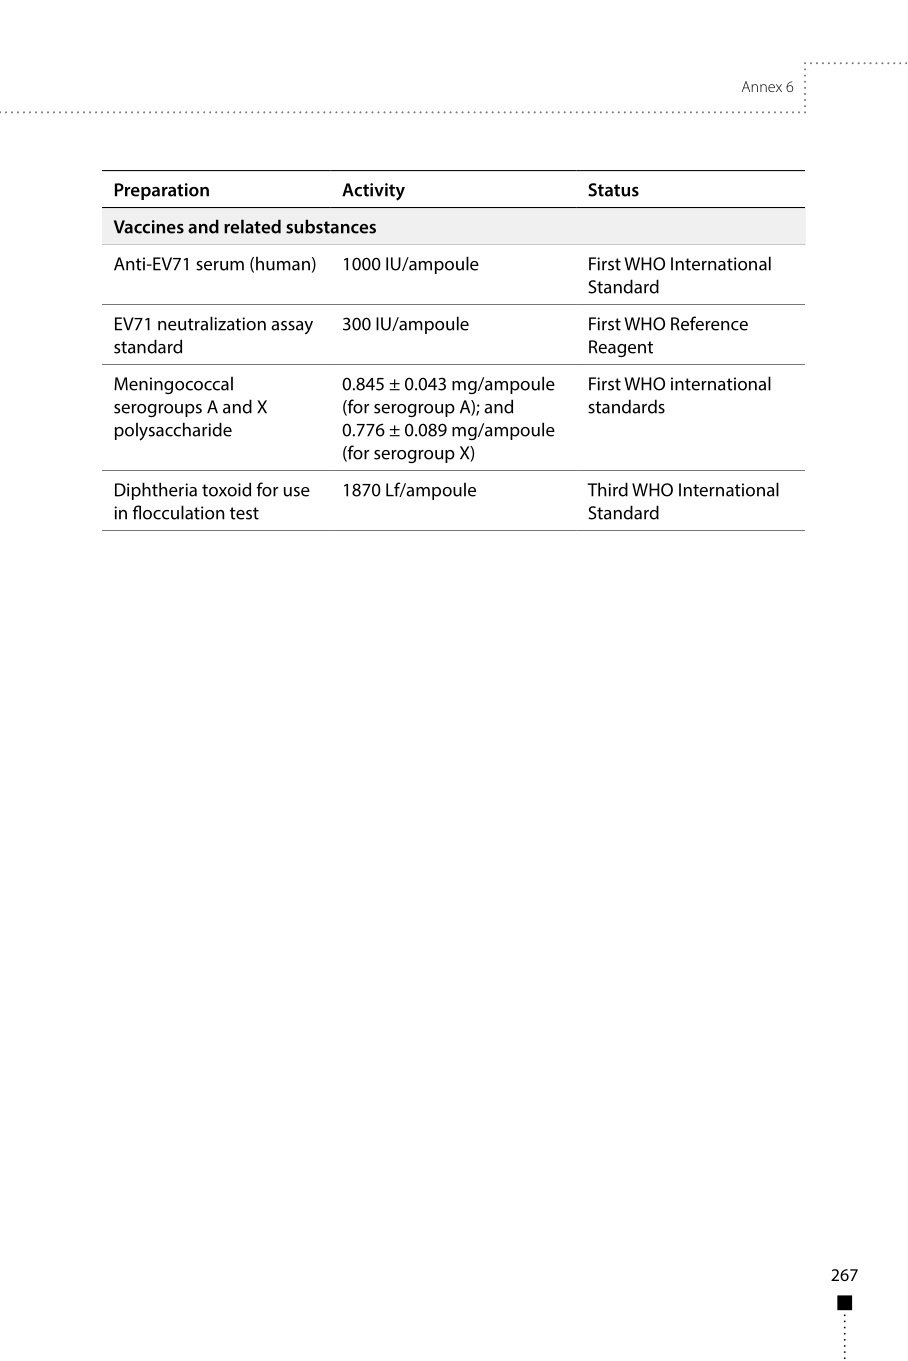partial_lined_merged_cells: (99, 166, 809, 532)
